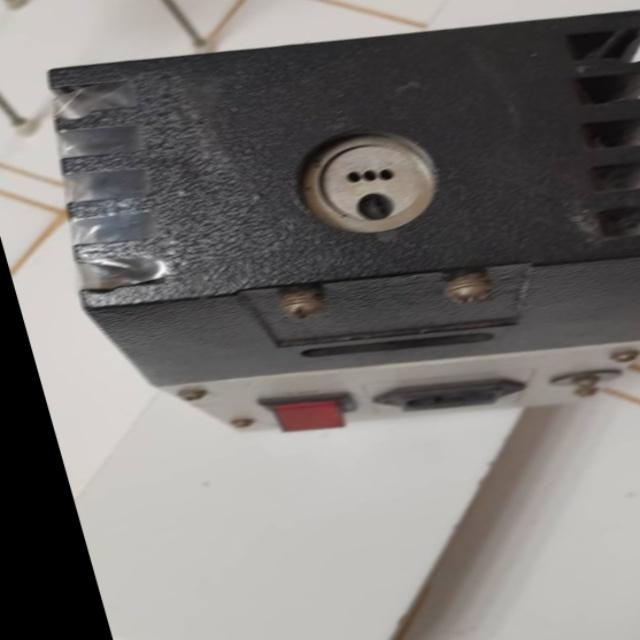Melting Point Apparatus: (25, 5, 640, 475)
